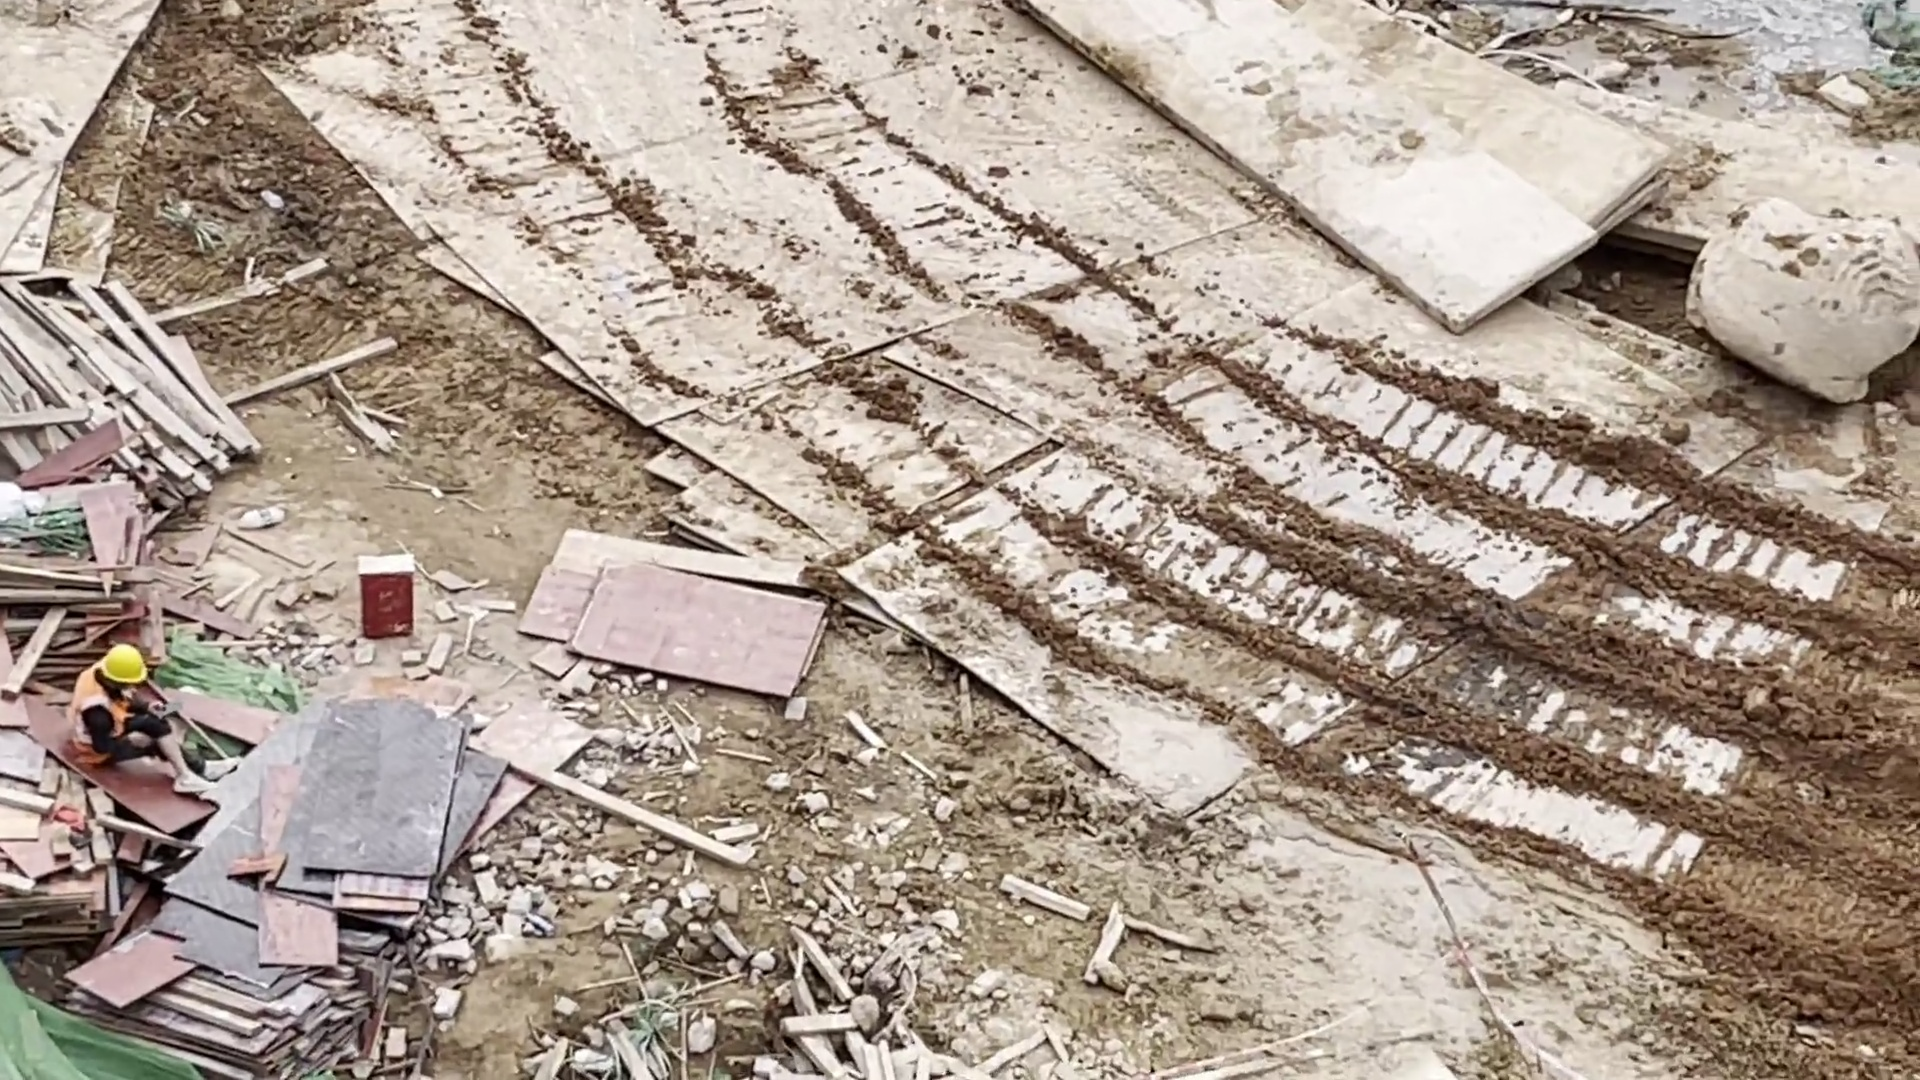board: (74, 694, 512, 1050)
helmet: (96, 645, 153, 686)
person: (67, 647, 234, 799)
vest: (67, 673, 122, 766)
